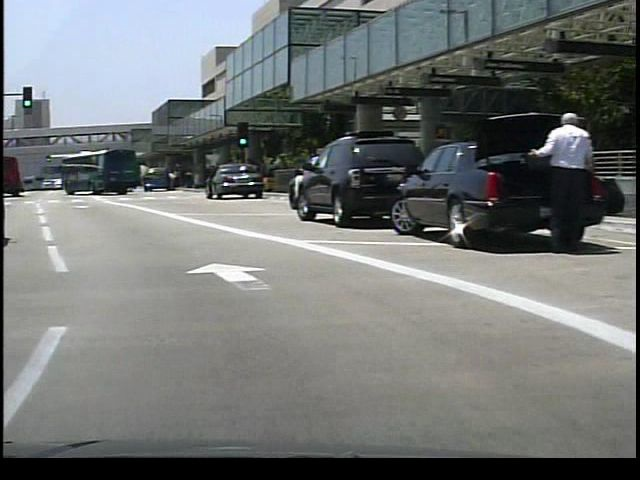person: (519, 96, 593, 260)
